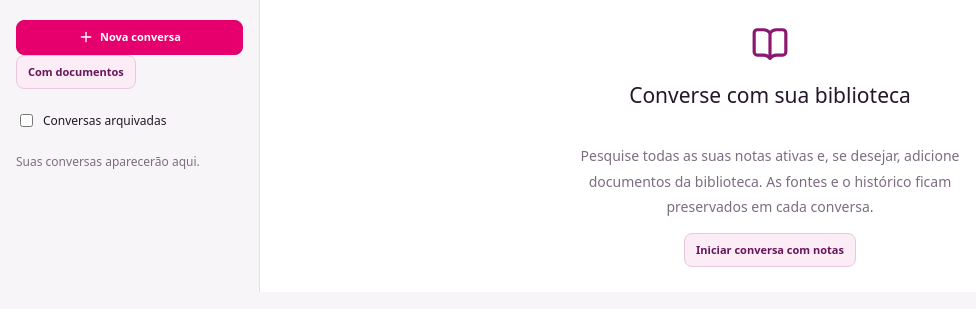
Test: conversational research UI › ignores obsolete list responses when filters change and unmounts without aborting fetch
Later steps or results of the test are not shown.
Click the checkbox at (26, 120), box [20,114,33,127]
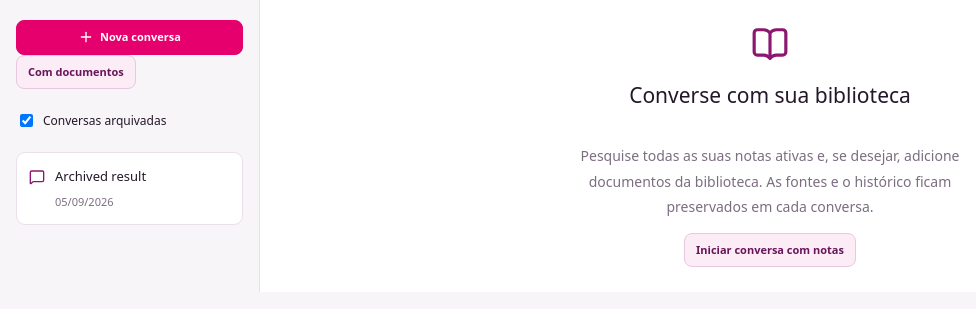
Expected: the button "Archived result 05/09/2026" is shown, [16,152,243,225]
